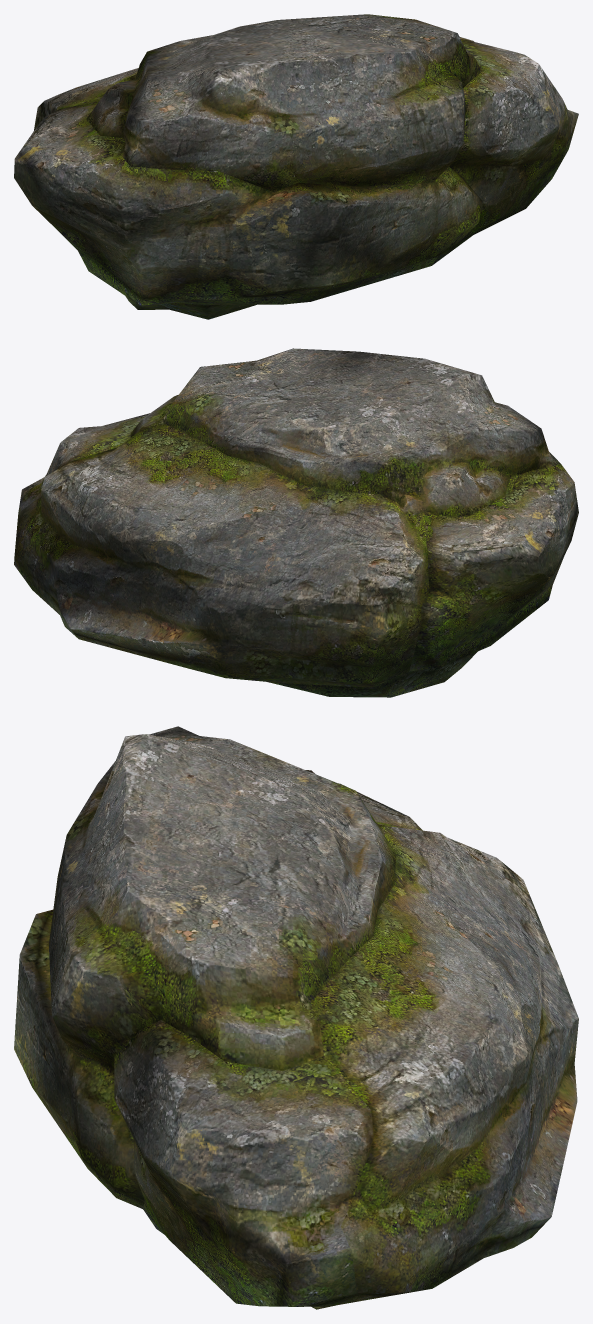
File: Rock6.glb
3 views of the same model, one above another, from view 1: azimuth 30°, elevation 25°; view 2: azimuth 150°, elevation 25°; view 3: azimuth 270°, elevation 25° (orthographic). The views are drawn at different scales.
Parts seen in each view (by area): view 1: common_rock6; view 2: common_rock6; view 3: common_rock6.
Boxes of the visible parts, box(x1,y1,x2,y2) form: common_rock6: box(14, 14, 578, 319); common_rock6: box(14, 348, 578, 697); common_rock6: box(14, 726, 578, 1309).
Bounding box in the file's own units: 3.61 × 1.71 × 2.32.
1 material, 1 textured.
